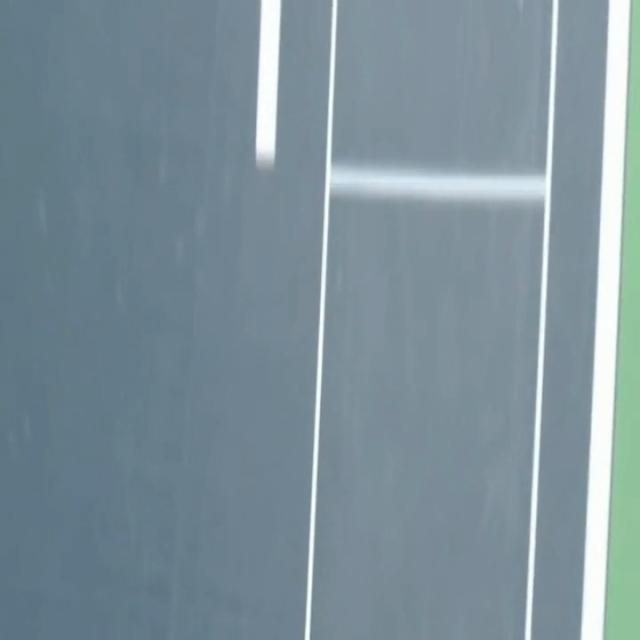center: (255, 0, 281, 168)
right: (580, 0, 630, 639)
